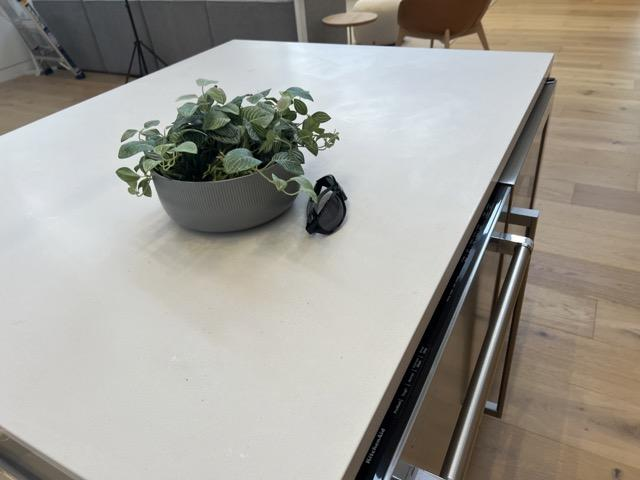Sunglasses: (306, 173, 348, 236)
